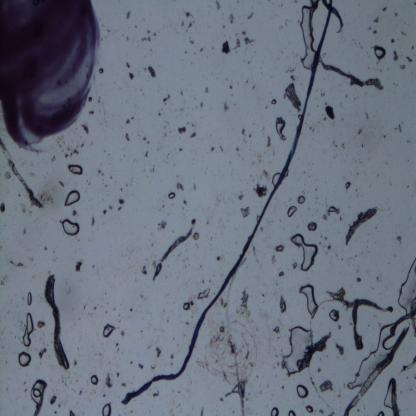Air bubble: (347, 321, 397, 390), (278, 325, 314, 374), (295, 5, 318, 74), (394, 257, 416, 315), (290, 233, 320, 272), (298, 282, 318, 320), (20, 308, 35, 349), (29, 378, 48, 405), (64, 189, 82, 209), (382, 380, 394, 410), (61, 218, 80, 236), (65, 162, 84, 177), (276, 116, 286, 142), (295, 383, 310, 400), (102, 323, 118, 338), (373, 44, 387, 61), (18, 352, 32, 368), (278, 294, 288, 314), (328, 308, 341, 321), (197, 288, 210, 300), (100, 404, 113, 416), (287, 205, 298, 217), (88, 374, 100, 385), (272, 172, 280, 186), (307, 221, 318, 231), (167, 190, 176, 202), (270, 406, 280, 416), (298, 193, 306, 205), (27, 290, 33, 306), (182, 302, 190, 312), (287, 408, 297, 416), (344, 180, 352, 190), (306, 405, 314, 414), (270, 98, 278, 106), (329, 206, 338, 213)
Background material: (203, 320, 259, 396), (221, 31, 257, 56), (284, 80, 306, 112), (39, 181, 58, 209), (237, 290, 254, 321), (313, 330, 334, 352), (179, 9, 194, 31), (122, 60, 136, 83), (145, 58, 159, 78), (255, 180, 270, 198), (318, 379, 334, 394), (142, 29, 158, 43), (103, 372, 114, 390), (9, 258, 28, 268), (63, 147, 79, 158), (239, 205, 252, 218), (334, 343, 344, 357), (325, 106, 335, 120), (162, 91, 172, 105), (174, 181, 185, 192), (80, 122, 90, 134), (74, 260, 84, 272), (37, 346, 47, 358), (273, 243, 286, 252), (158, 220, 168, 231), (49, 393, 58, 405), (262, 169, 270, 182), (96, 168, 106, 178), (37, 318, 46, 329), (266, 136, 273, 150), (322, 209, 330, 221), (220, 296, 228, 308), (273, 324, 281, 335), (228, 14, 236, 25), (237, 191, 245, 202), (0, 202, 7, 214), (155, 347, 162, 359), (177, 126, 186, 135), (124, 116, 132, 126), (189, 130, 197, 140), (223, 99, 229, 112), (152, 389, 160, 398), (217, 254, 226, 262), (395, 124, 402, 134), (5, 170, 12, 180), (392, 50, 398, 61), (91, 214, 96, 227), (278, 270, 286, 278), (118, 197, 126, 205), (50, 154, 56, 164), (143, 136, 150, 144), (373, 15, 380, 23), (358, 126, 364, 135), (327, 410, 336, 416), (142, 264, 147, 274), (151, 362, 156, 372), (406, 56, 413, 63), (318, 408, 325, 415), (137, 362, 144, 369), (292, 262, 298, 270), (182, 198, 188, 206), (126, 132, 130, 144), (150, 164, 156, 172), (59, 179, 65, 187), (102, 208, 108, 216), (332, 140, 338, 148), (72, 209, 78, 217), (397, 236, 402, 245), (144, 149, 149, 158), (400, 64, 406, 71), (69, 409, 75, 416), (184, 319, 190, 326), (219, 396, 225, 403), (382, 5, 388, 12), (337, 323, 342, 331), (272, 254, 276, 264), (310, 126, 315, 134), (200, 406, 204, 416), (73, 358, 78, 366), (219, 146, 224, 154), (121, 329, 126, 337), (260, 291, 265, 299), (78, 388, 83, 396), (365, 111, 369, 120), (88, 110, 94, 116), (178, 146, 184, 152), (342, 141, 346, 150), (320, 92, 326, 98), (117, 206, 123, 212), (170, 352, 174, 361), (280, 384, 286, 390), (209, 147, 216, 152), (327, 244, 332, 251), (400, 31, 407, 36), (359, 42, 363, 50), (241, 128, 245, 136), (115, 340, 119, 348), (406, 139, 412, 144), (357, 277, 362, 283), (317, 366, 322, 372), (372, 29, 378, 34), (323, 115, 327, 122), (116, 371, 120, 378), (361, 143, 366, 148), (43, 246, 48, 251), (122, 382, 127, 387), (236, 146, 240, 152), (391, 38, 395, 44), (277, 361, 281, 367), (382, 134, 386, 139), (410, 45, 414, 50), (93, 306, 98, 310), (339, 216, 343, 221), (393, 12, 398, 16), (345, 93, 348, 99), (108, 206, 112, 210), (368, 27, 372, 31), (128, 308, 132, 312), (249, 134, 252, 139), (380, 69, 383, 73), (120, 188, 123, 192), (413, 1, 416, 5)
Cellulose filter fibre: (343, 327, 410, 414), (0, 138, 43, 210), (40, 274, 70, 373), (152, 220, 198, 283), (224, 289, 245, 416), (350, 296, 394, 349), (320, 58, 388, 92), (346, 206, 379, 245), (389, 312, 416, 333), (390, 378, 402, 415), (403, 354, 416, 372)
Cotton: (121, 4, 332, 408)
Diatom: (193, 231, 201, 240)
Pen: (0, 0, 98, 151)
